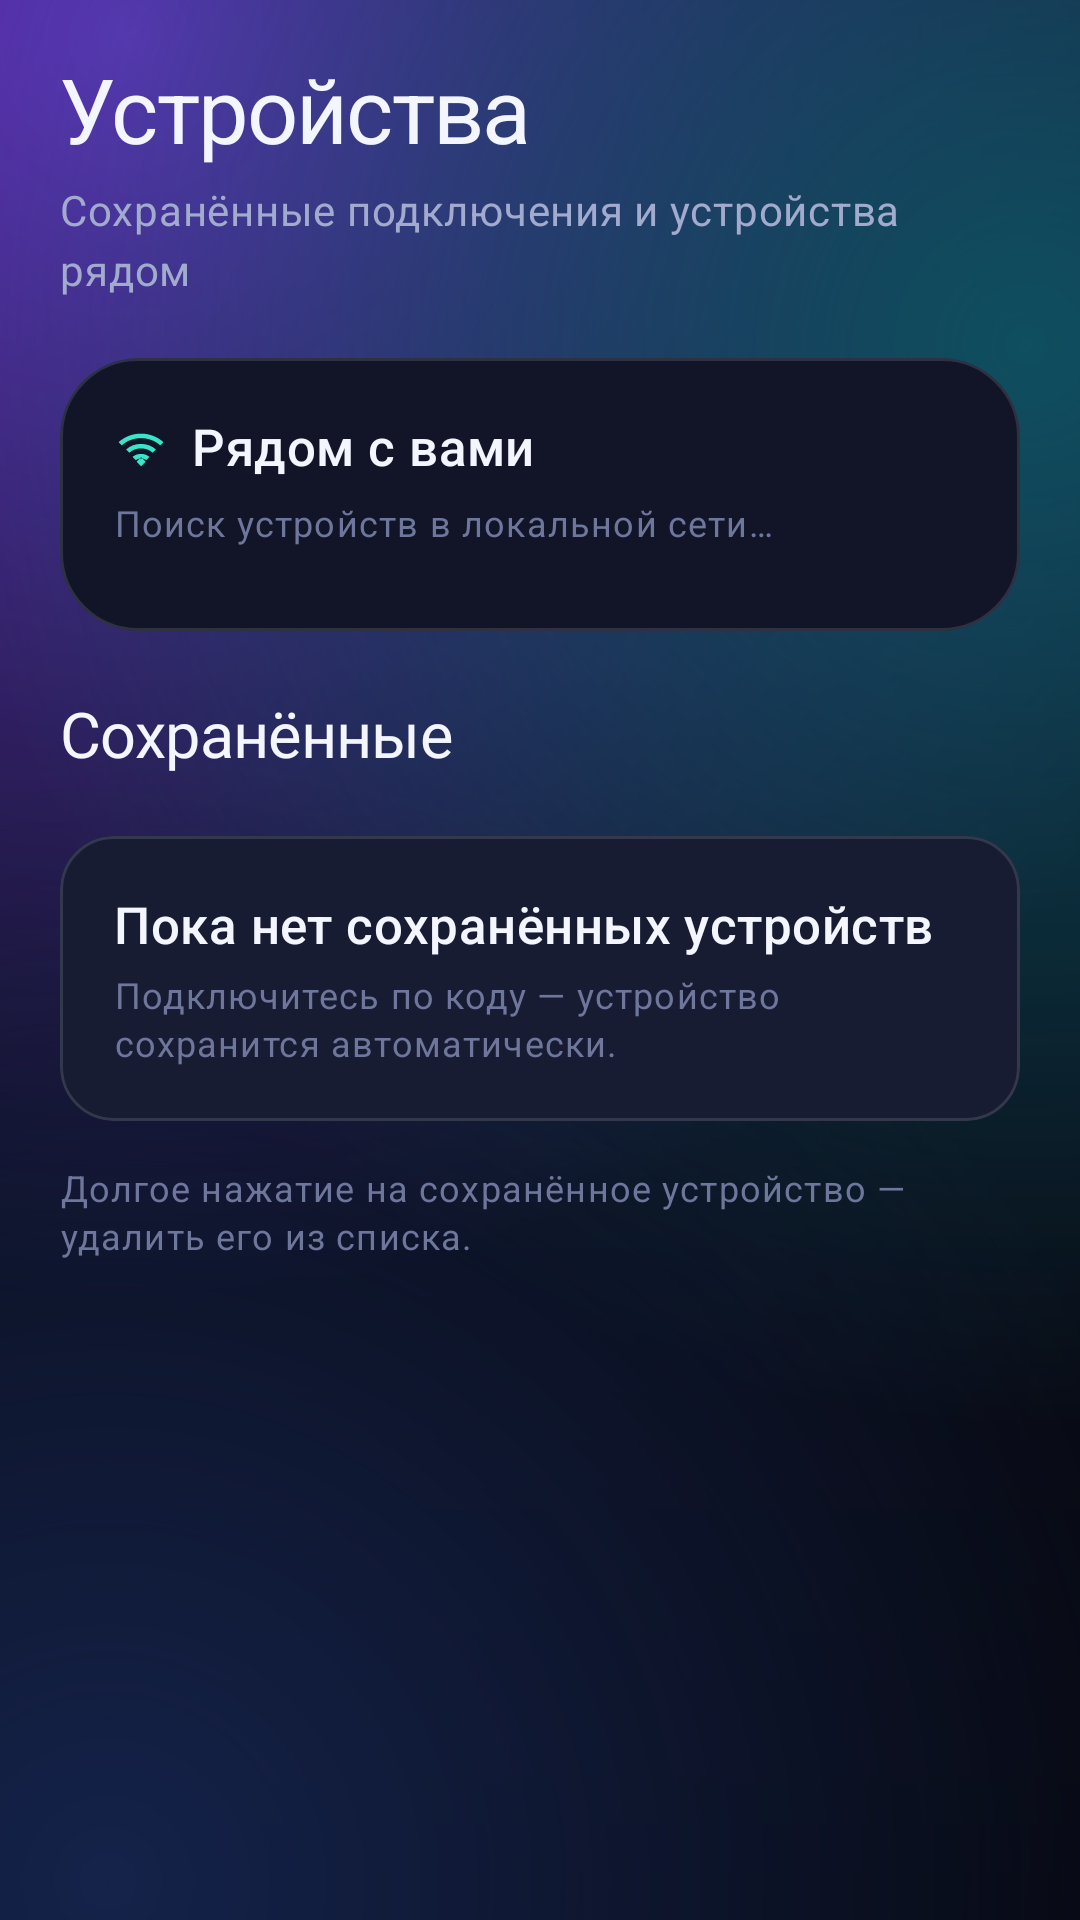

Locate icon controls on the screen. Image size 1080w x 1920h, boxes as (x1, y1, x2, y2).
wifi: (118, 433, 163, 466)
